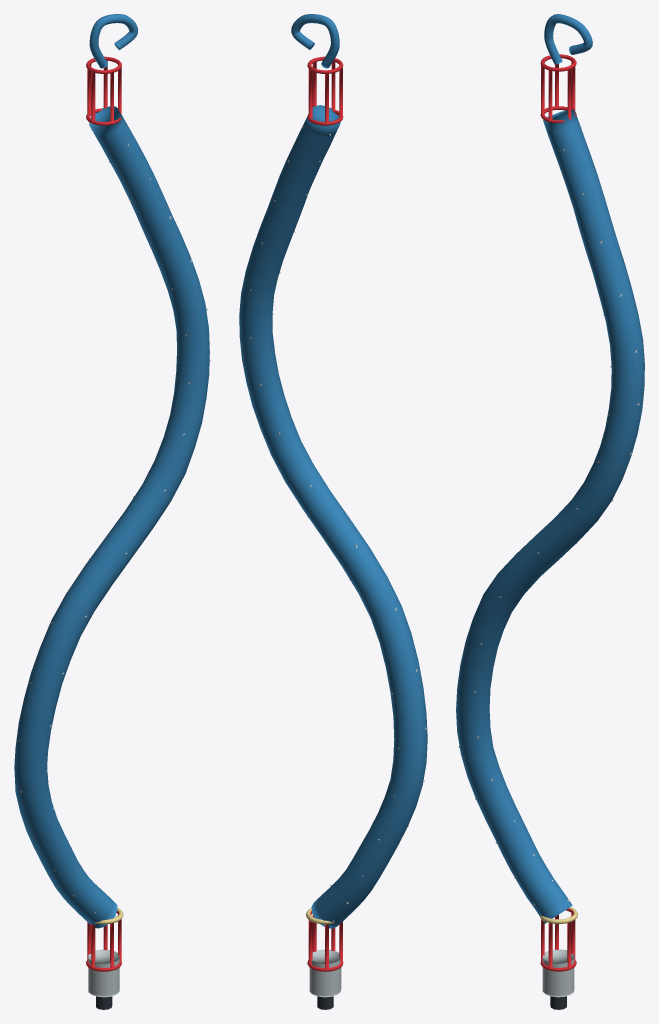
The model's file is impella-rp-v1.glb.
3 views of the same model, side by side, from view 1: azimuth 30°, elevation 25°; view 2: azimuth 150°, elevation 25°; view 3: azimuth 330°, elevation 25° (orthographic).
Parts seen in each view (by area): view 1: Impella_RP_ReinforcedCannula, Impella_RP_OutletCage, Impella_RP_MotorHousing, Impella_RP_DistalPigtail, Impella_RP_InletCage; view 2: Impella_RP_ReinforcedCannula, Impella_RP_OutletCage, Impella_RP_MotorHousing, Impella_RP_DistalPigtail, Impella_RP_InletCage; view 3: Impella_RP_ReinforcedCannula, Impella_RP_OutletCage, Impella_RP_MotorHousing, Impella_RP_DistalPigtail, Impella_RP_InletCage.
Boxes of the visible parts, box(x1,y1,x2,y2) form: Impella_RP_ReinforcedCannula: box(14, 106, 209, 928); Impella_RP_OutletCage: box(86, 56, 121, 125); Impella_RP_MotorHousing: box(88, 949, 119, 997); Impella_RP_DistalPigtail: box(89, 14, 138, 68); Impella_RP_InletCage: box(86, 910, 121, 971); Impella_RP_ReinforcedCannula: box(239, 105, 427, 928); Impella_RP_OutletCage: box(307, 56, 343, 125); Impella_RP_MotorHousing: box(309, 949, 341, 997); Impella_RP_DistalPigtail: box(291, 14, 339, 68); Impella_RP_InletCage: box(307, 910, 343, 971); Impella_RP_ReinforcedCannula: box(456, 109, 644, 923); Impella_RP_OutletCage: box(540, 54, 576, 123); Impella_RP_MotorHousing: box(542, 949, 574, 997); Impella_RP_DistalPigtail: box(544, 14, 592, 64); Impella_RP_InletCage: box(540, 908, 576, 971).
Bounding box in the file's own units: 1.14 × 5.74 × 0.3342.
